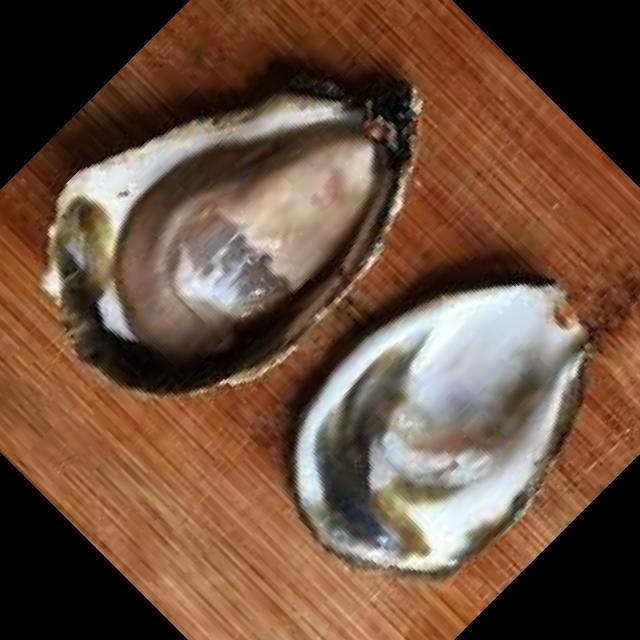Oyster-Open: (41, 71, 415, 392), (295, 280, 588, 574)
